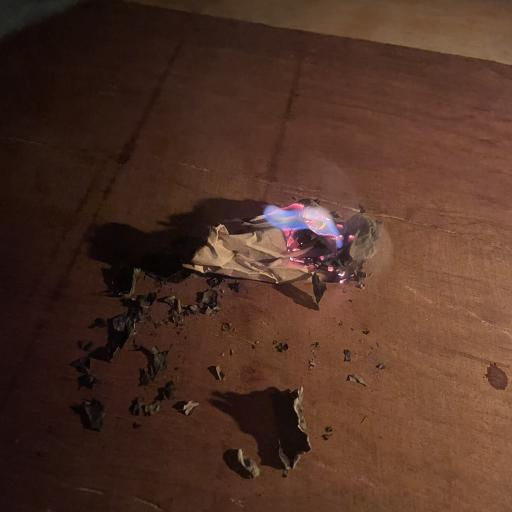fire: (263, 189, 354, 263), (327, 265, 356, 284)
